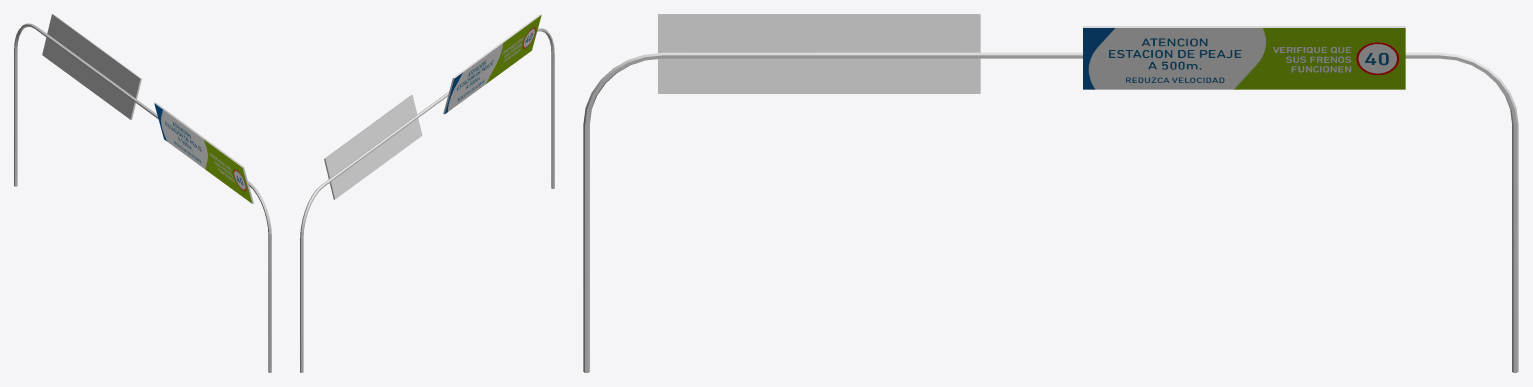
The model's file is CartelPeaje.FBX.
3 renders of one model, left to right at view 1: azimuth 30°, elevation 25°; view 2: azimuth 150°, elevation 25°; view 3: azimuth 270°, elevation 25°, orthographic. The views are drawn at different scales.
Visible parts, largest first — view 1: Box028, Box023, Rectangle003; view 2: Box028, Box023, Rectangle003; view 3: Box023, Box028, Rectangle003.
Part boxes in pixels (<box>): Box028: <box>42,14,141,119</box>; Box023: <box>154,102,253,203</box>; Rectangle003: <box>14,23,271,372</box>; Box028: <box>324,95,422,199</box>; Box023: <box>443,14,541,114</box>; Rectangle003: <box>300,28,554,372</box>; Box023: <box>658,14,980,93</box>; Box028: <box>1083,26,1405,89</box>; Rectangle003: <box>583,52,1518,372</box>.
Size of the model in its own units: 1.03 by 12.02 by 28.98.
Materials: 2 (1 with a texture image).
